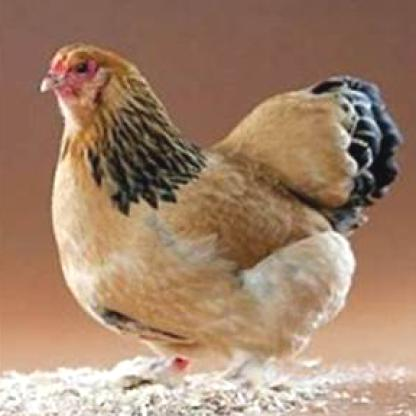chicken: (41, 42, 404, 387)
